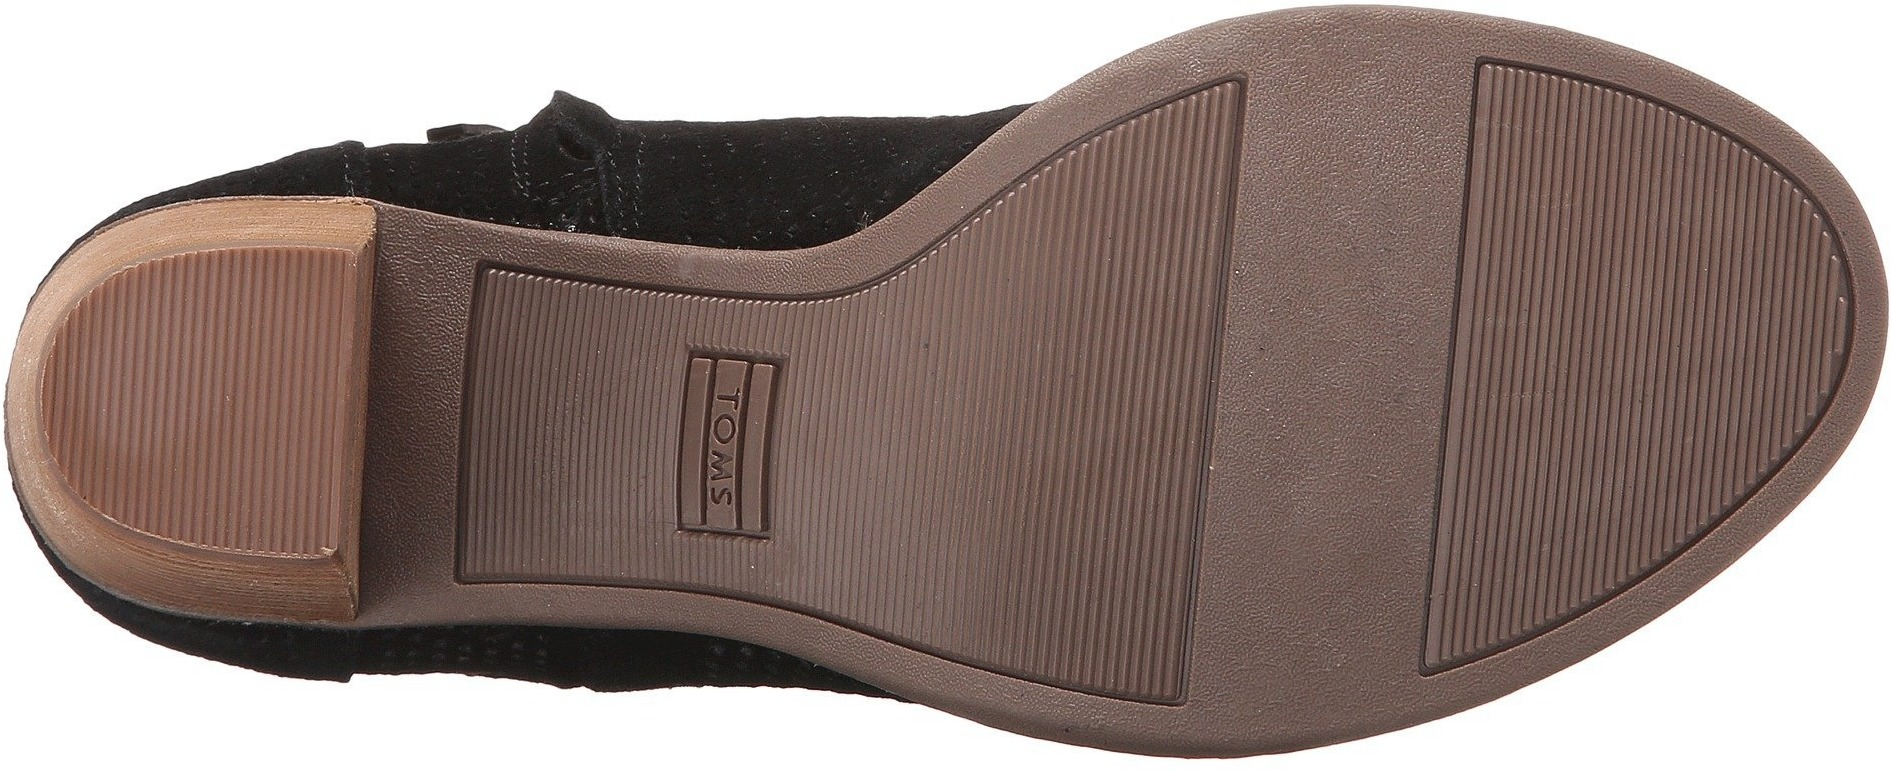exclude: (356, 142, 882, 665)
other: (893, 272, 1189, 570), (1487, 211, 1789, 490), (1190, 463, 1437, 677), (1231, 74, 1475, 288), (115, 294, 334, 529), (1211, 276, 1452, 480), (1501, 91, 1643, 220), (1065, 154, 1196, 258)
